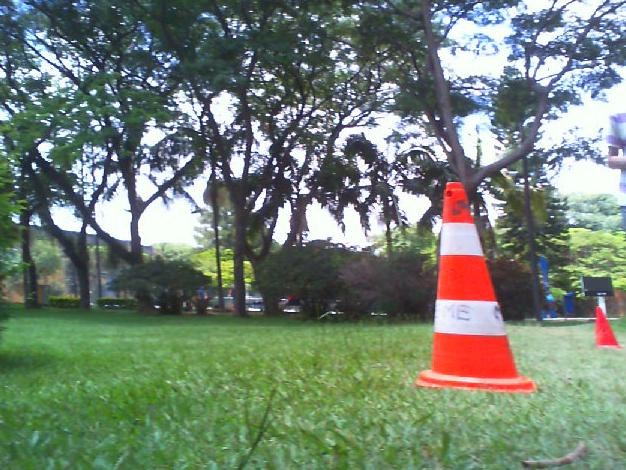0 cone: (414, 182, 538, 394), (596, 307, 624, 351)
